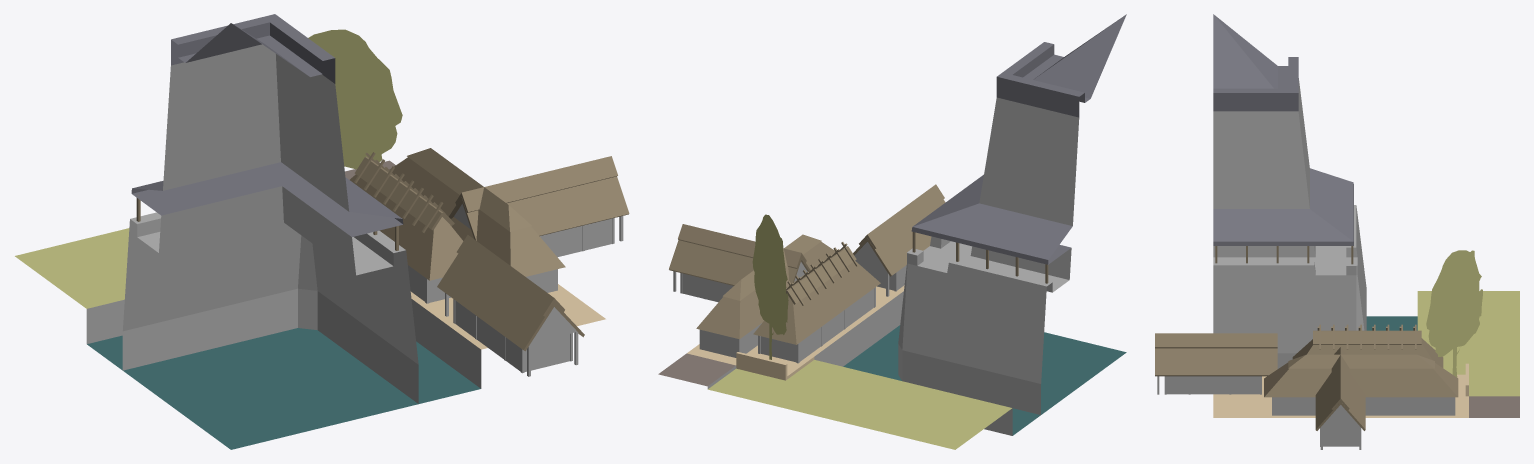
3 views of the same model, side by side, from view 1: azimuth 30°, elevation 25°; view 2: azimuth 150°, elevation 25°; view 3: azimuth 270°, elevation 25° (orthographic). The views are drawn at different scales.
Visible parts, largest first — view 1: wr1c; view 2: wr1c; view 3: wr1c.
Part boxes in pixels (<box>): wr1c: <box>15,14,629,449</box>; wr1c: <box>658,14,1126,449</box>; wr1c: <box>1155,14,1519,449</box>.
Size of the model in its own units: 37.63 by 32.63 by 35.7.
